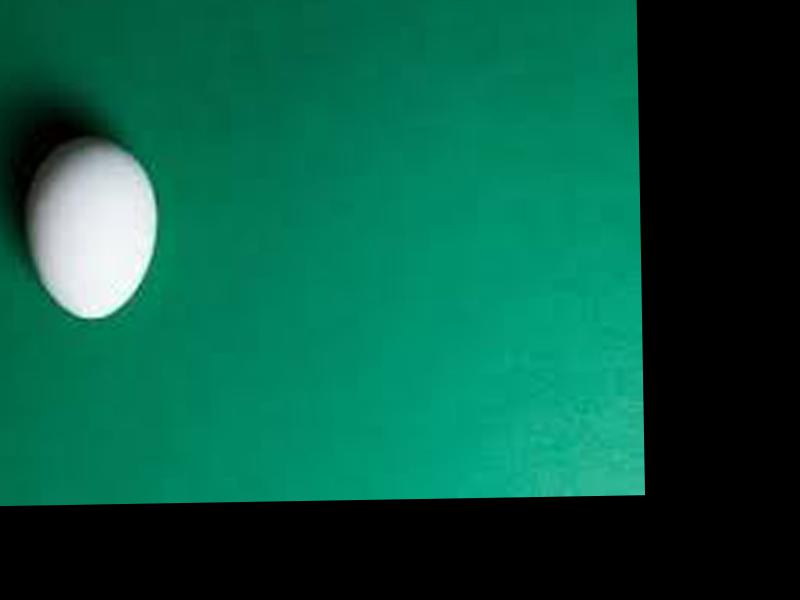Eggs: (29, 135, 164, 318)
